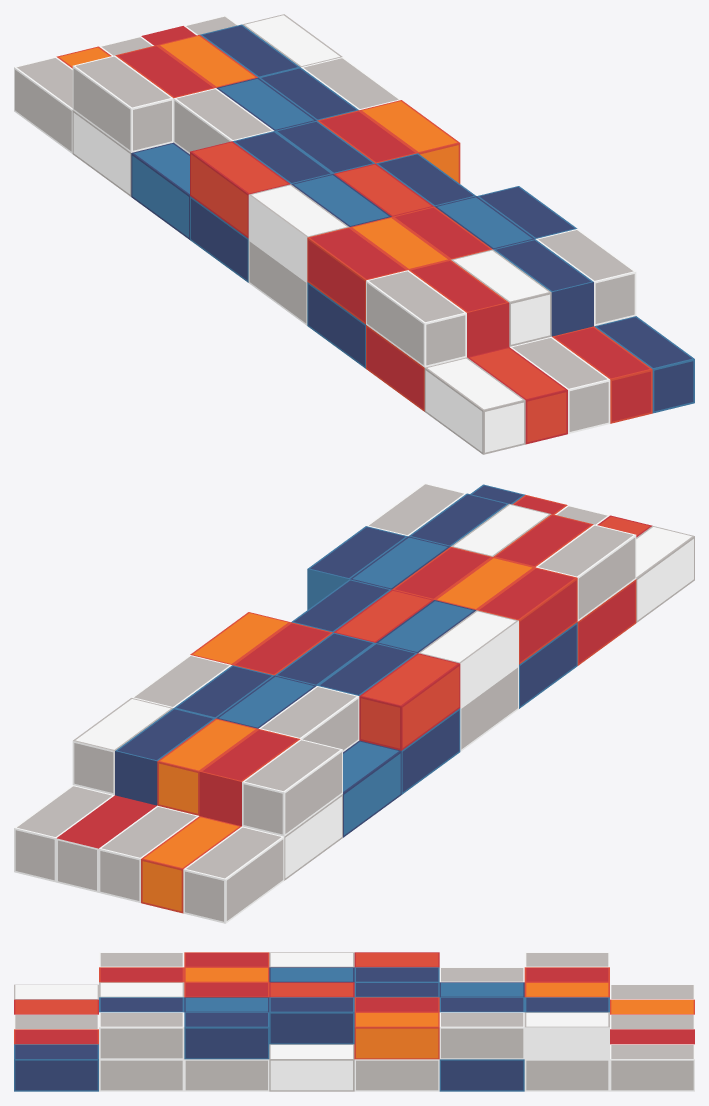
File: ship-cargos.glb
3 renders of one model, top to bottom at view 1: azimuth 30°, elevation 25°; view 2: azimuth 150°, elevation 25°; view 3: azimuth 270°, elevation 25°, orthographic. The views are drawn at different scales.
Visible parts, largest first — view 1: ship-cargos; view 2: ship-cargos; view 3: ship-cargos.
Boxes of the visible parts, bbox=[...] form: ship-cargos: bbox=[14, 14, 694, 454]; ship-cargos: bbox=[14, 483, 694, 923]; ship-cargos: bbox=[14, 952, 694, 1091].
Bounding box in the file's own units: 12.5 × 5 × 48.
1 material, 1 textured.
